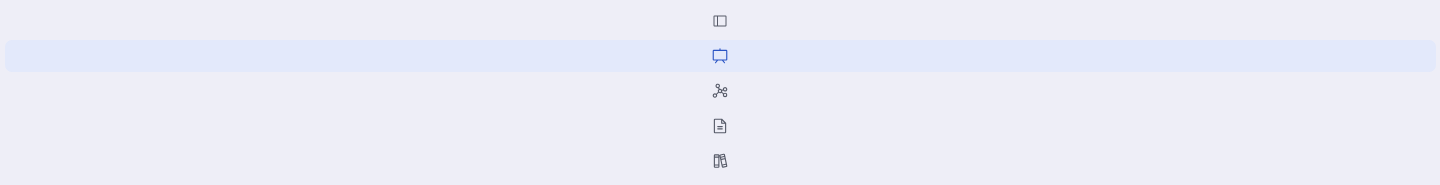
SidePanel collapse — the rail › clicking a rail tab expands the panel and selects that tab
Expected: the button named "Expand side panel" is shown, [4, 4, 1436, 36]
Step 1. Click the 3rd tab named "page" → (720, 126), box [4, 110, 1436, 142]
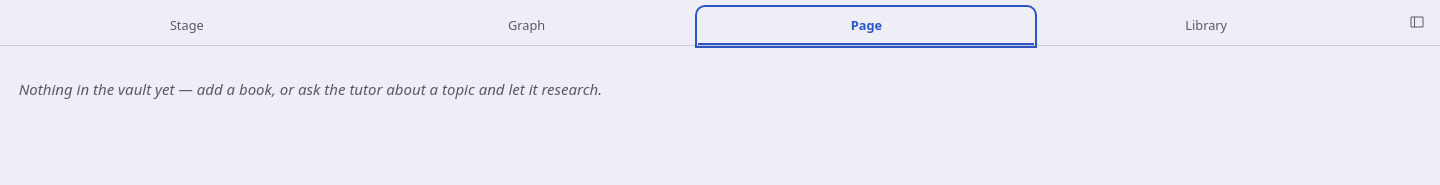
Now the button named "Collapse side panel" is shown, box [1400, 6, 1432, 38]
